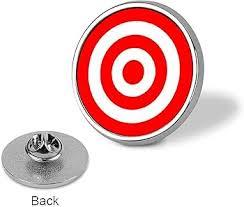target_red: (71, 0, 204, 146)
